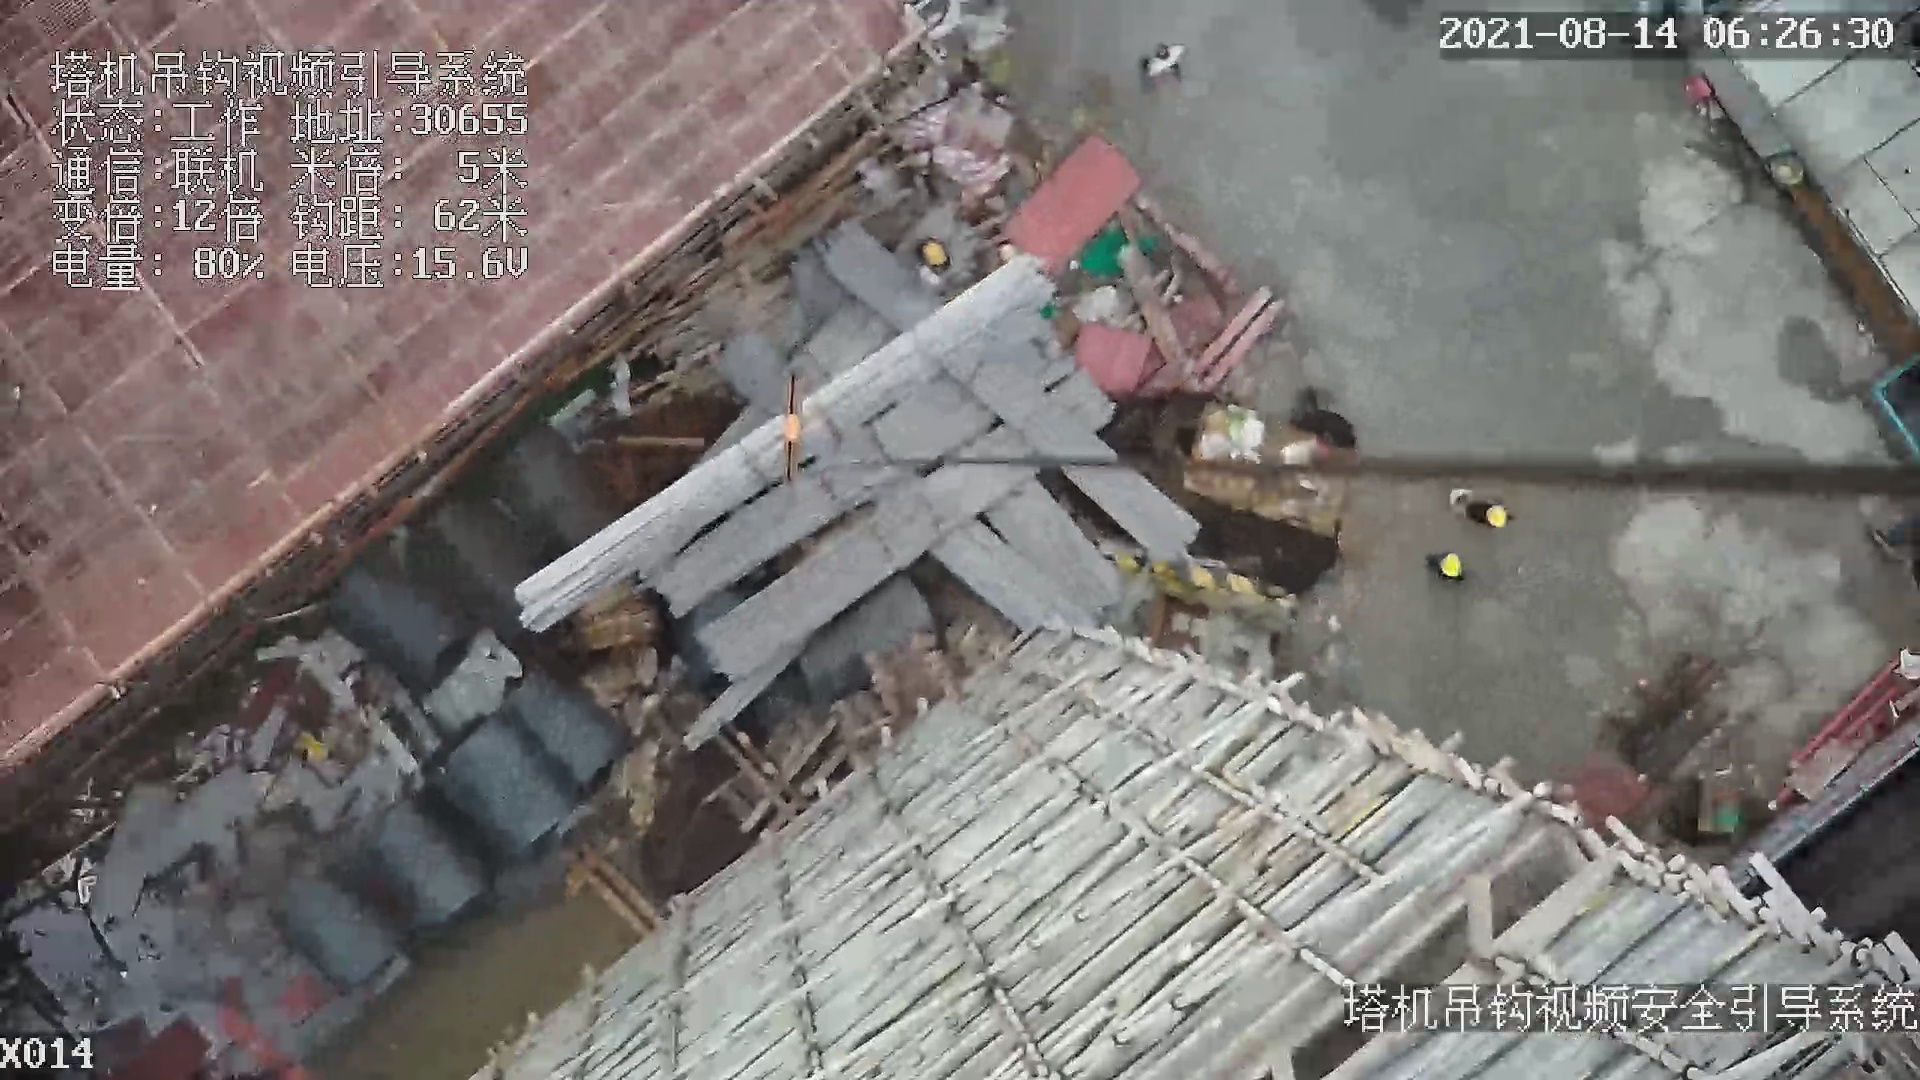helmet: (918, 241, 948, 264), (1440, 557, 1466, 572), (1486, 505, 1507, 524)
hook: (774, 373, 806, 487)
person: (1445, 485, 1512, 530), (915, 231, 956, 289), (1429, 549, 1463, 578)
